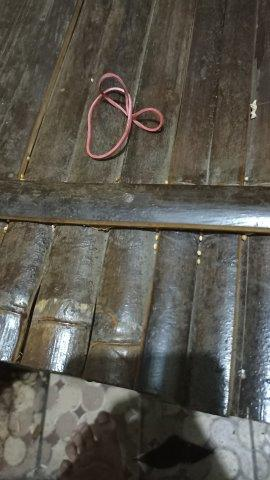karet: (85, 72, 165, 160)
